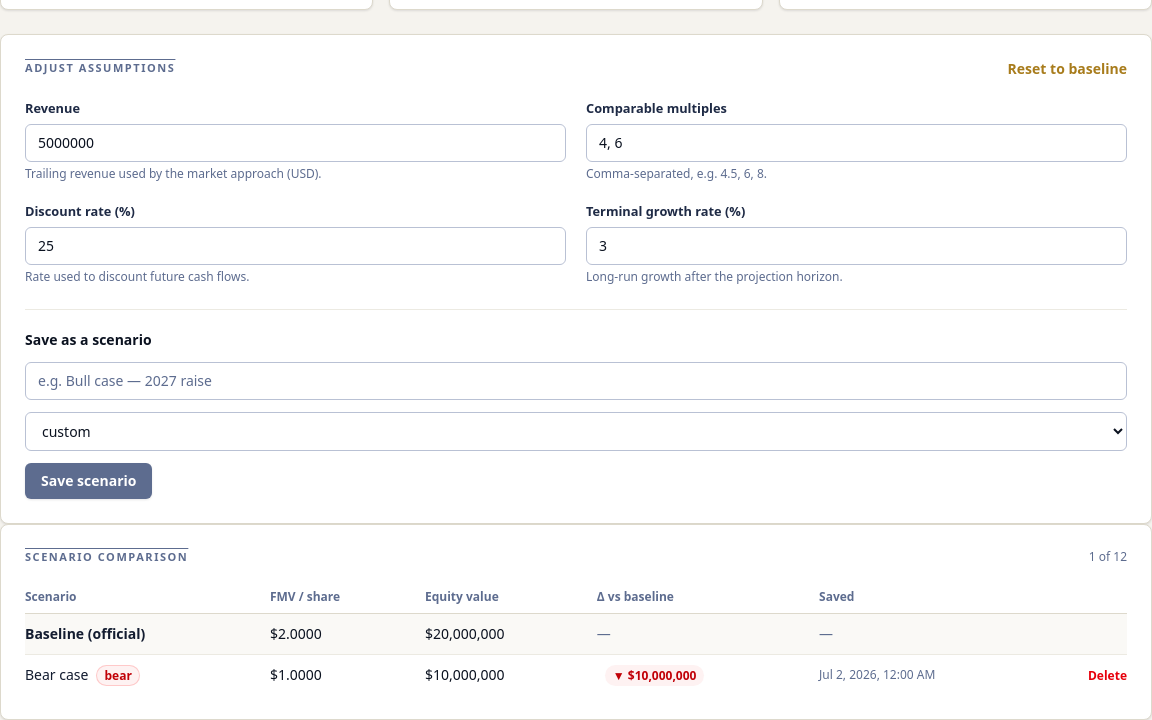
Test: ScenariosTab — failures › surfaces a delete failure
(page scrolled)
Click the button with aria-label "Delete scenario Bear case". click: {"x": 1108, "y": 676}
box: [1088,668,1127,684]
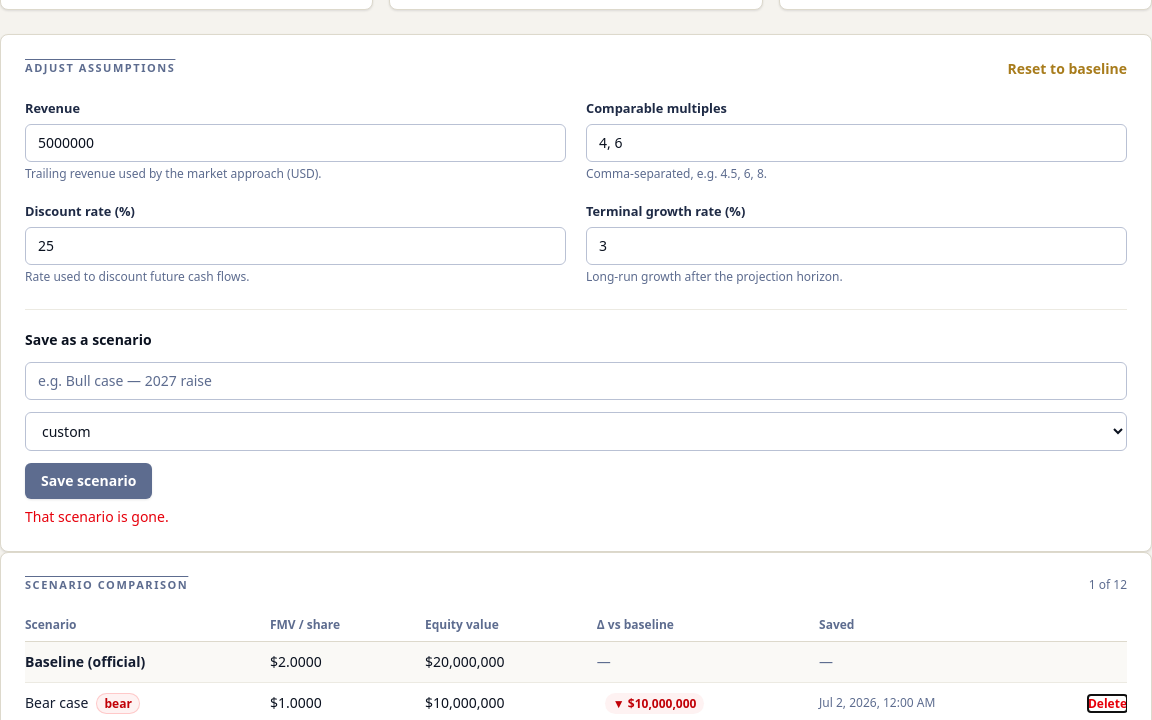
Result: the message reads "That scenario is gone." at [25,507,169,526]
